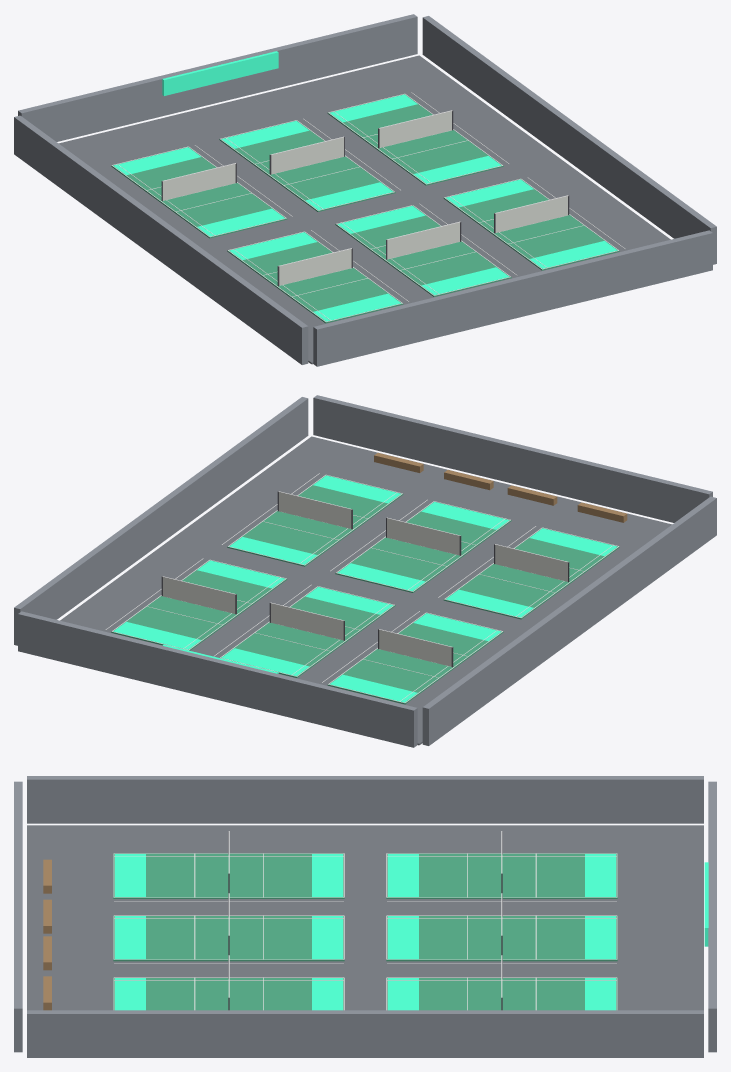
File: smashzone-facility-6courts.glb
3 renders of one model, top to bottom at view 1: azimuth 30°, elevation 25°; view 2: azimuth 150°, elevation 25°; view 3: azimuth 270°, elevation 25°, orthographic. The views are drawn at different scales.
Parts seen in each view (by area): view 1: Facility_Floor, Wall_South, Wall_North, Wall_West, Wall_East, Court_4, Court_1, Court_2, Court_3, Court_6, Court_5, Entrance_Sign (+18 smaller); view 2: Facility_Floor, Wall_North, Wall_South, Wall_West, Wall_East, Court_1, Court_4, Court_5, Court_6, Court_3, Court_2, Court_1_Net (+17 smaller); view 3: Facility_Floor, Wall_East, Wall_West, Court_2, Court_5, Court_1, Court_4, Court_3, Court_6, Wall_North, Wall_South, Court_2_Zone_T (+11 smaller).
Part boxes in pixels (bbox=[...]): Facility_Floor: bbox=[59, 55, 670, 364]; Wall_South: bbox=[313, 230, 712, 366]; Wall_North: bbox=[18, 14, 417, 141]; Wall_West: bbox=[14, 115, 308, 364]; Wall_East: bbox=[422, 16, 716, 264]; Court_4: bbox=[227, 232, 403, 323]; Court_1: bbox=[111, 147, 287, 238]; Court_2: bbox=[219, 120, 395, 211]; Court_3: bbox=[327, 94, 503, 185]; Court_6: bbox=[443, 179, 619, 270]; Court_5: bbox=[335, 205, 511, 296]; Entrance_Sign: bbox=[162, 51, 278, 95]; Facility_Floor: bbox=[60, 436, 671, 745]; Wall_North: bbox=[18, 611, 417, 747]; Wall_South: bbox=[313, 395, 712, 522]; Wall_West: bbox=[422, 496, 716, 745]; Wall_East: bbox=[14, 397, 308, 645]; Court_1: bbox=[327, 613, 503, 704]; Court_4: bbox=[443, 528, 619, 619]; Court_5: bbox=[335, 501, 511, 592]; Court_6: bbox=[227, 475, 403, 566]; Court_3: bbox=[111, 560, 287, 650]; Court_2: bbox=[221, 586, 395, 677]; Court_1_Net: bbox=[379, 630, 451, 666]; Facility_Floor: bbox=[27, 825, 703, 1010]; Wall_East: bbox=[27, 1010, 703, 1057]; Wall_West: bbox=[27, 776, 703, 823]; Court_2: bbox=[386, 915, 617, 961]; Court_5: bbox=[113, 915, 344, 961]; Court_1: bbox=[386, 853, 617, 898]; Court_4: bbox=[113, 853, 344, 898]; Court_3: bbox=[386, 977, 617, 1010]; Court_6: bbox=[113, 977, 344, 1010]; Wall_North: bbox=[708, 781, 716, 1052]; Wall_South: bbox=[14, 781, 22, 1052]; Court_2_Zone_T: bbox=[585, 916, 615, 959].
Size of the model in its own units: 32.6 by 2.92 by 40.7.
